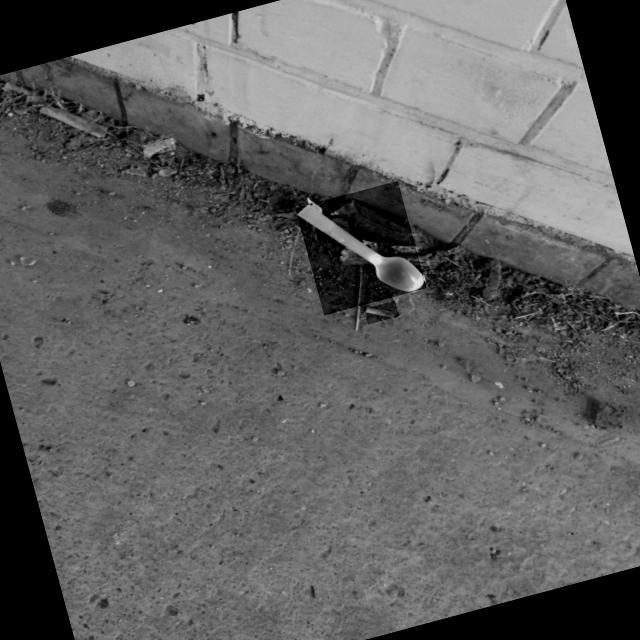Cigarette: (144, 139, 174, 156), (365, 307, 398, 317)
Other container: (298, 205, 425, 292)
